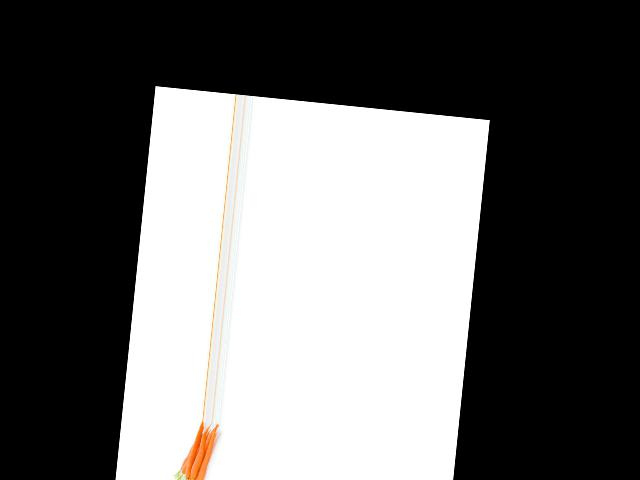carrot: (197, 423, 216, 480)
